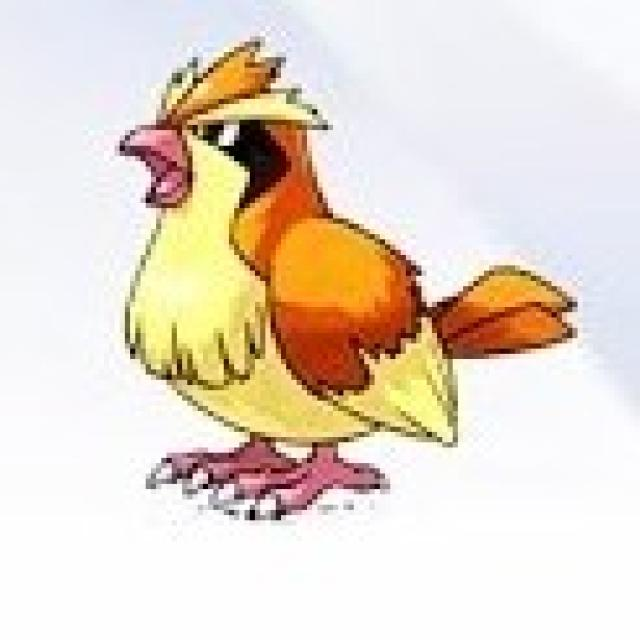Pidgey: (111, 65, 448, 522)
